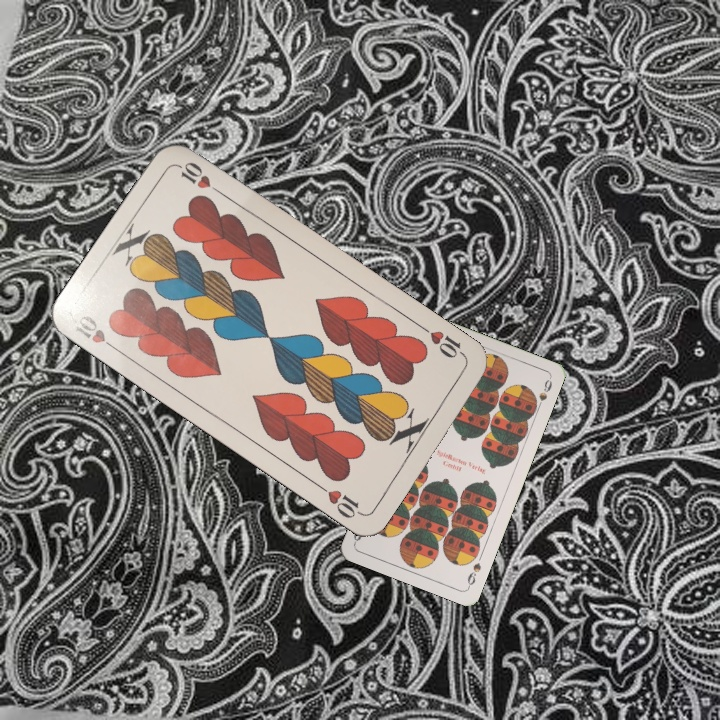H10: (71, 311, 122, 355), (417, 322, 469, 361)
S9: (463, 559, 484, 590)
